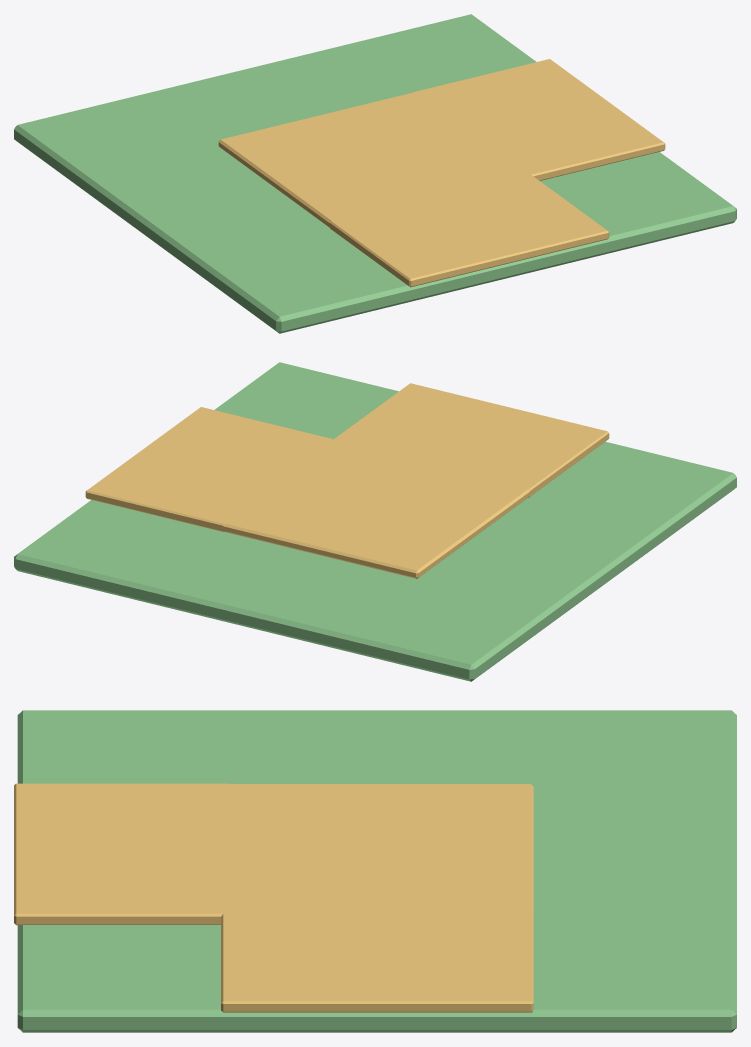
The model's file is ROAD_DIRT_1x1_CORNER.glb.
The picture shows the model from 3 angles, top to bottom: view 1: azimuth 30°, elevation 25°; view 2: azimuth 150°, elevation 25°; view 3: azimuth 270°, elevation 25°; orthographic projection. The views are drawn at different scales.
Visible parts, largest first — view 1: ROAD_DIRT_1x1_CORNER_Visual; view 2: ROAD_DIRT_1x1_CORNER_Visual; view 3: ROAD_DIRT_1x1_CORNER_Visual.
Part boxes in pixels (x1,y1,x2,y2): ROAD_DIRT_1x1_CORNER_Visual: (14,14,736,333); ROAD_DIRT_1x1_CORNER_Visual: (14,362,736,681); ROAD_DIRT_1x1_CORNER_Visual: (14,710,736,1032).
Size of what is drawn, in the model's own units: 1.99 by 0.1045 by 1.99.
